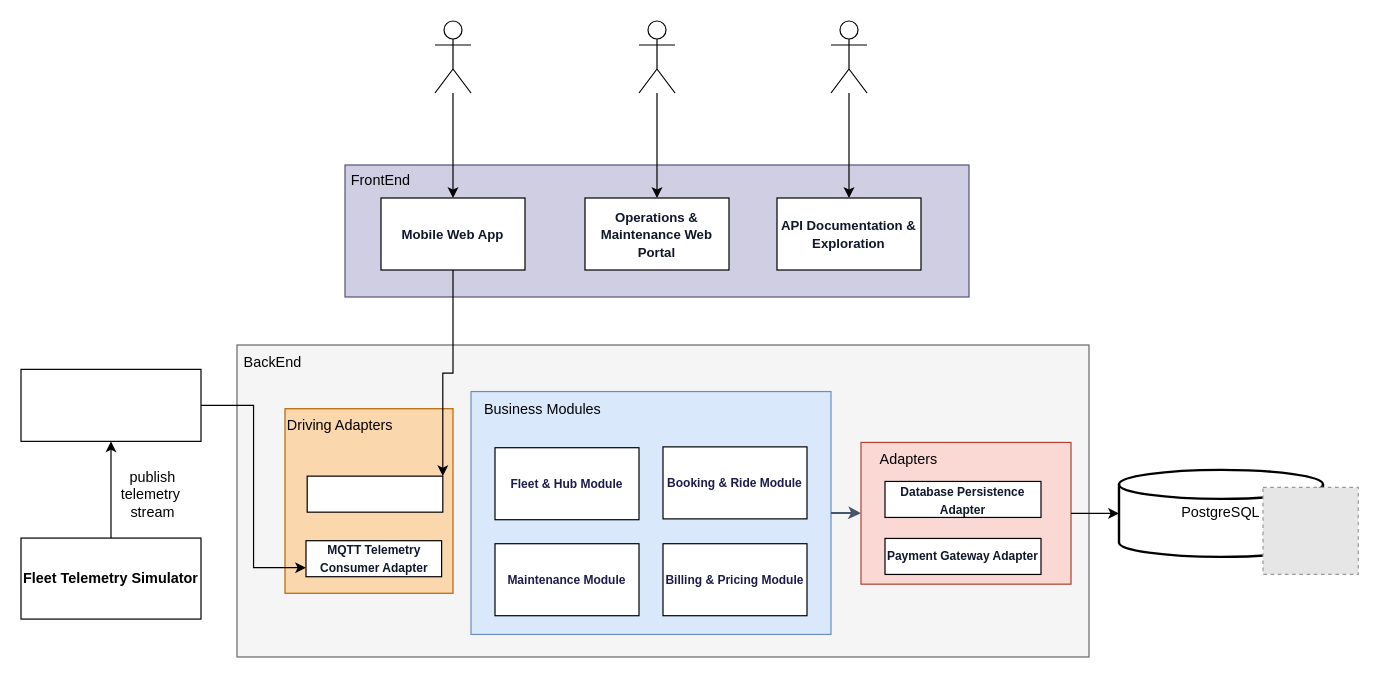
This 1380x678 diagram has some shape labels left out. Grey dashed boxes stand in for pictures. Each missing label, with the centre of its shape:
Administrador: (x=848, y=56)
Client: (x=452, y=56)
MQTT Message Broker: (x=110, y=404)
REST API Adapter: (x=374, y=493)
Técnico/Operador: (x=656, y=56)
